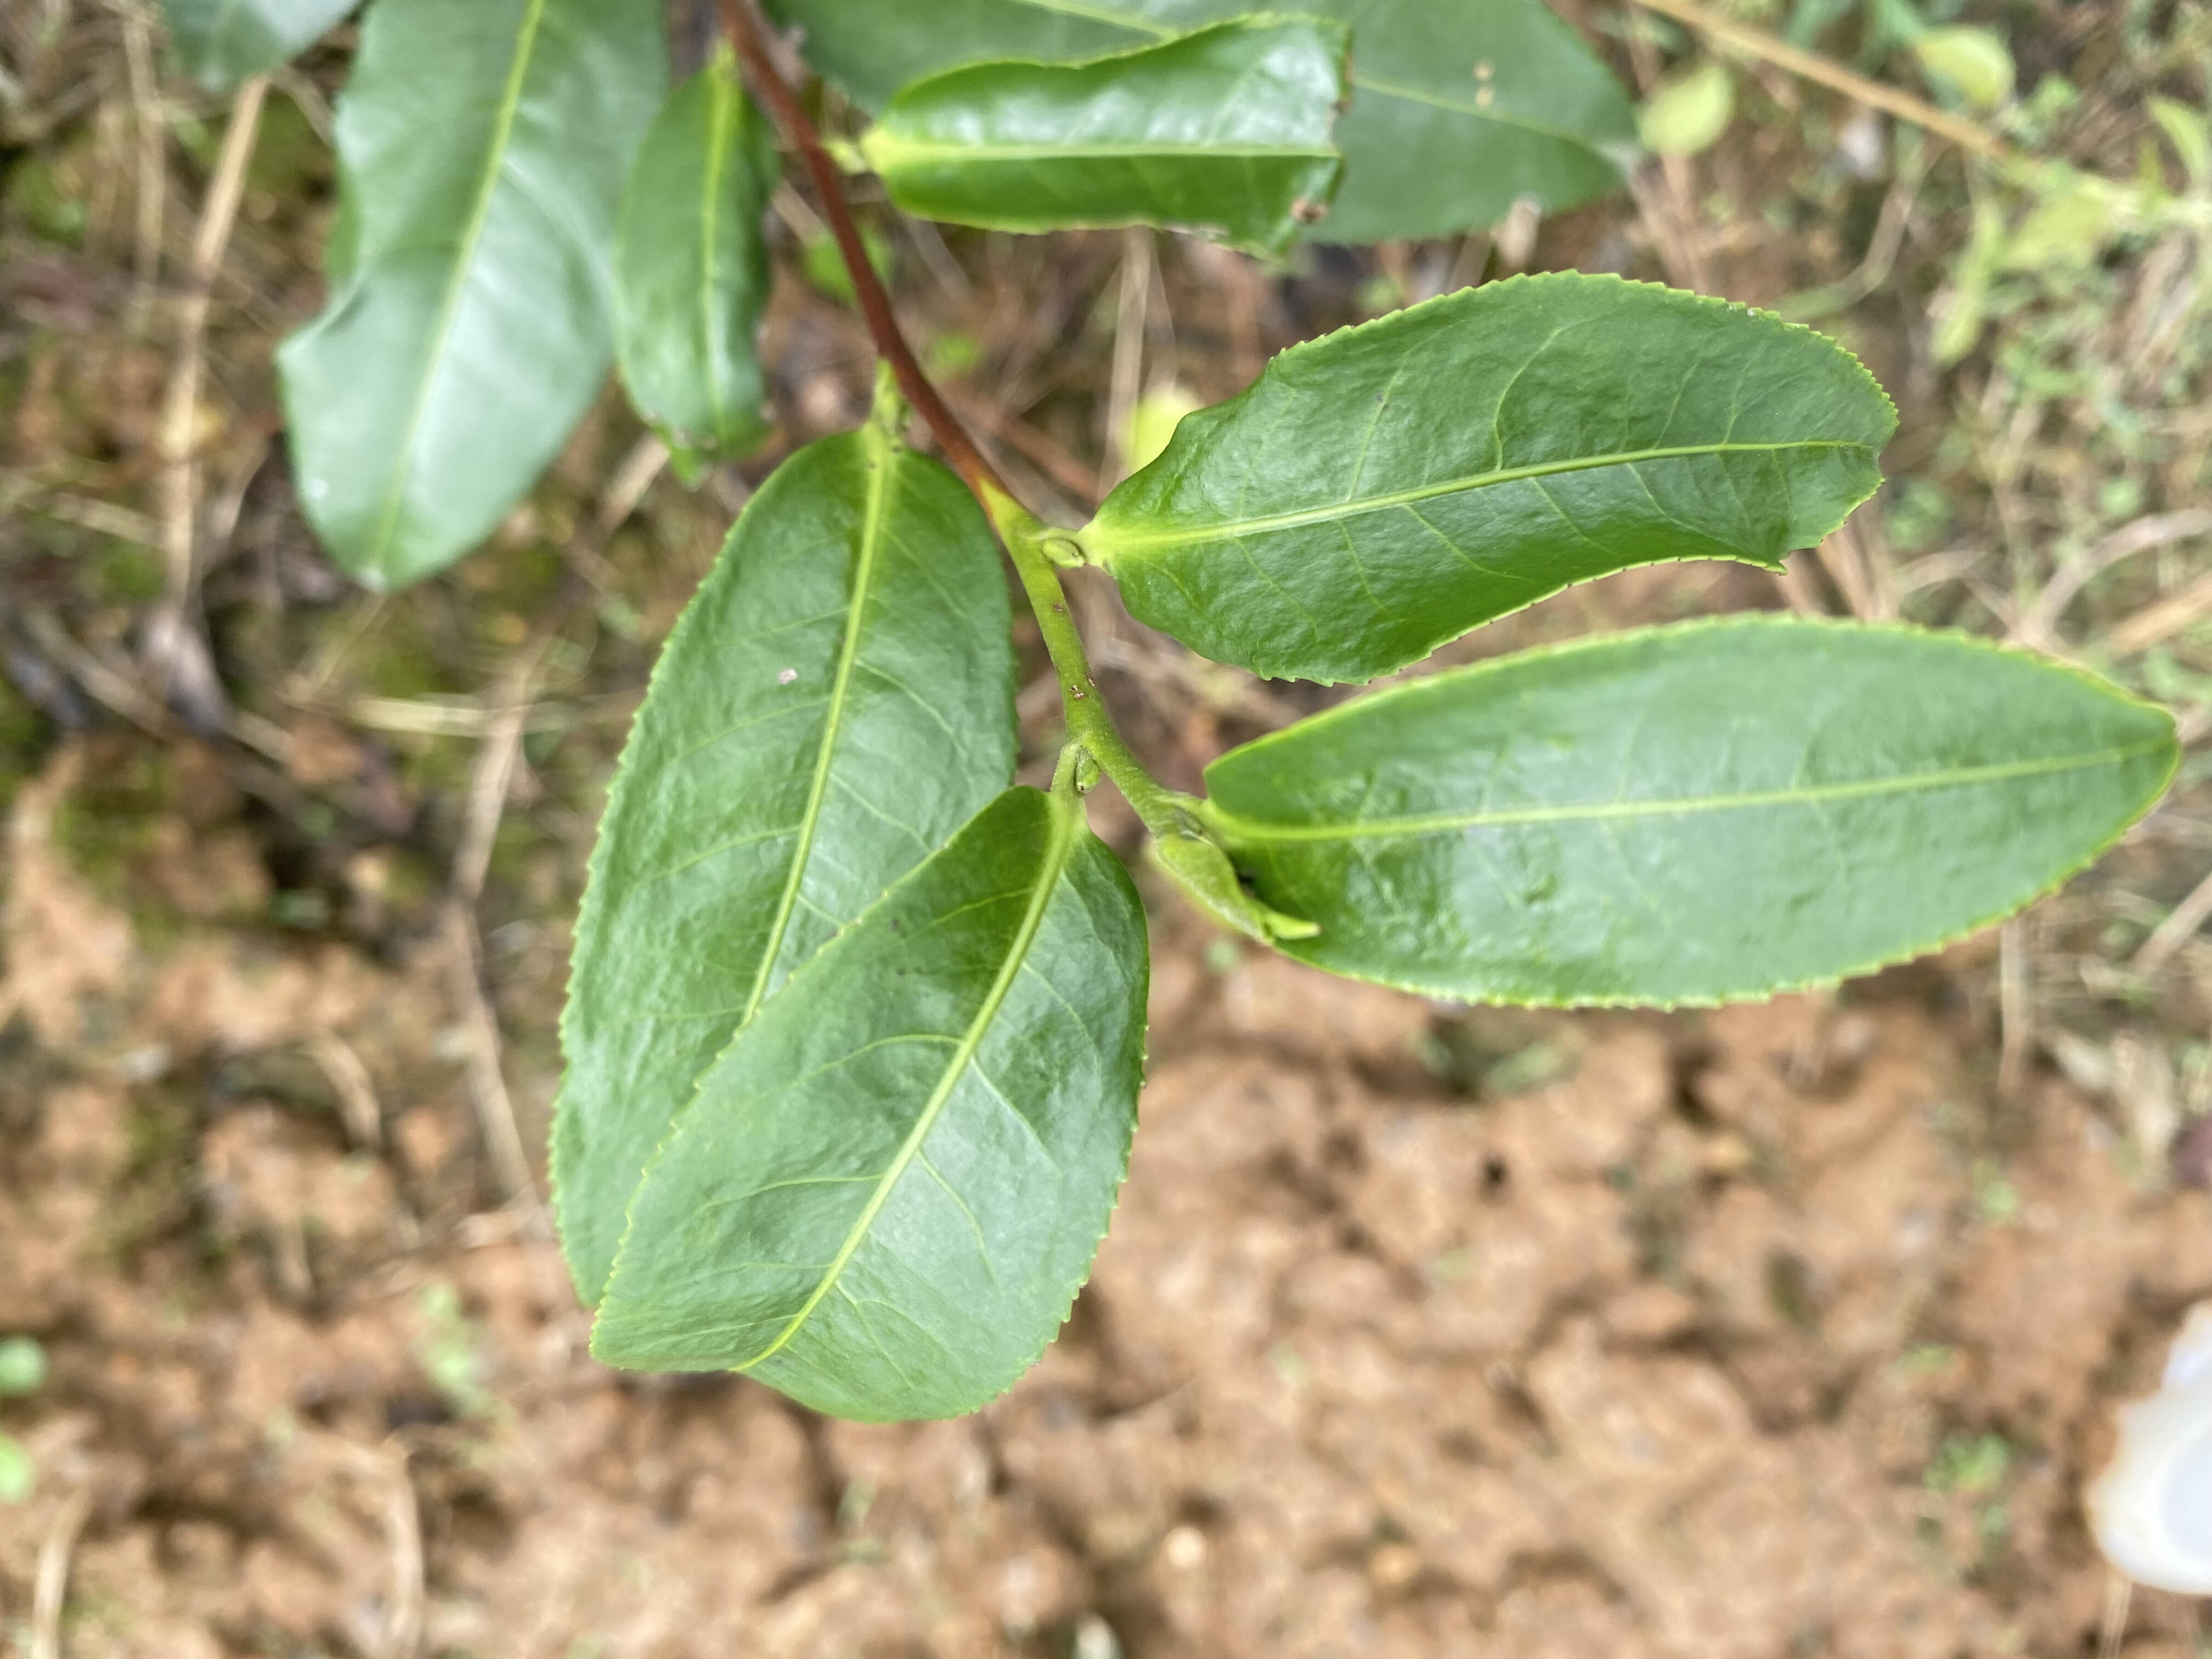healthy: (1204, 613, 2182, 1014), (589, 784, 1153, 1429), (1083, 265, 1904, 694)
tanju_low: (543, 425, 1021, 1319)
